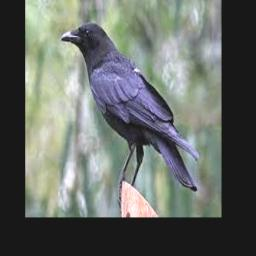Crow: (61, 22, 201, 208)
